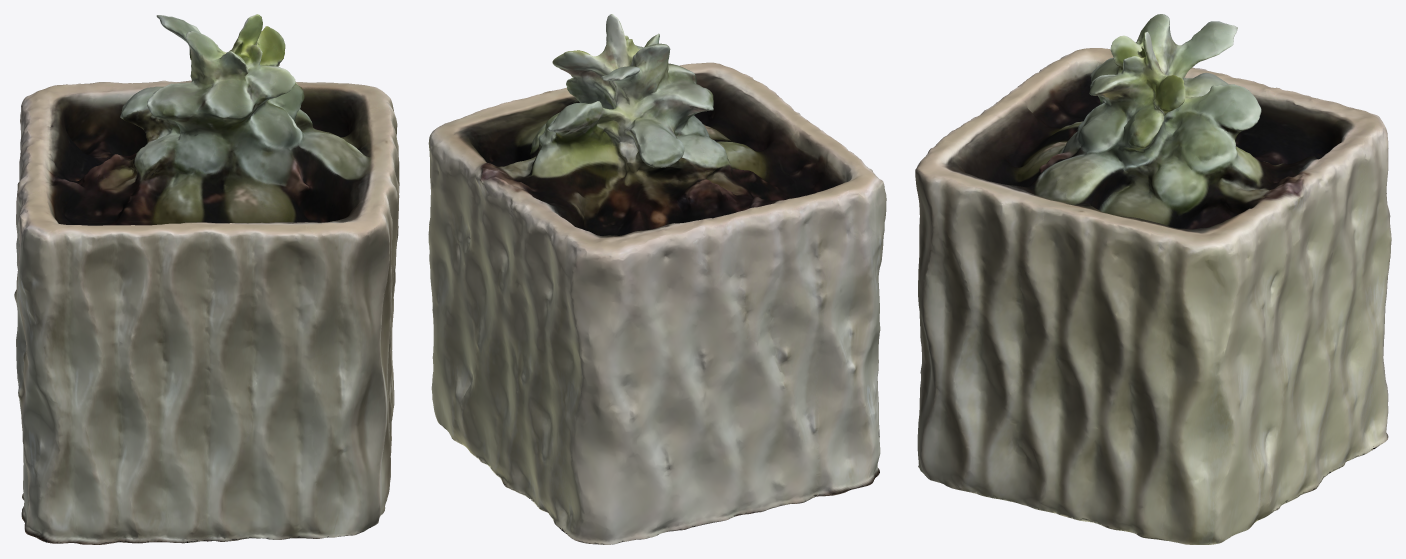
File: free__small_succulent_in_planter.glb
3 renders of one model, left to right at view 1: azimuth 30°, elevation 25°; view 2: azimuth 150°, elevation 25°; view 3: azimuth 270°, elevation 25°, orthographic. The views are drawn at different scales.
Visible parts, largest first — view 1: Object_2, Object_3; view 2: Object_3, Object_2; view 3: Object_2, Object_3.
Part boxes in pixels (x1,y1,x2,y2): Object_2: (15, 14, 399, 544); Object_3: (14, 16, 363, 500); Object_3: (468, 46, 829, 544); Object_2: (428, 14, 886, 520); Object_2: (915, 14, 1368, 544); Object_3: (1161, 24, 1391, 456).
Size of the model in its own units: 12.23 by 12.48 by 12.
1 material, 1 textured.
